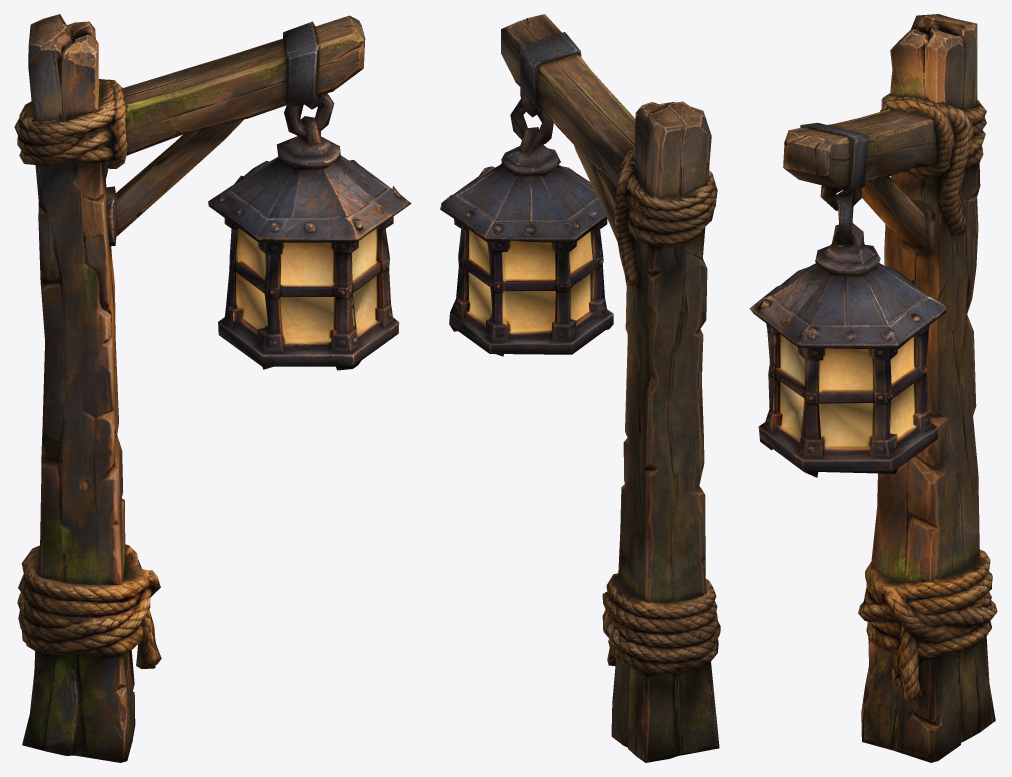
The model's file is lantern-post-v2-lod.glb.
The picture shows the model from 3 angles, left to right: view 1: azimuth 30°, elevation 25°; view 2: azimuth 150°, elevation 25°; view 3: azimuth 270°, elevation 25°; orthographic projection. The views are drawn at different scales.
Visible parts, largest first — view 1: tripo_node_ab763b4f-d258-47ee-bccc-f83e04b6fea0; view 2: tripo_node_ab763b4f-d258-47ee-bccc-f83e04b6fea0; view 3: tripo_node_ab763b4f-d258-47ee-bccc-f83e04b6fea0.
Boxes of the visible parts, bbox=[...] form: tripo_node_ab763b4f-d258-47ee-bccc-f83e04b6fea0: bbox=[14, 14, 411, 762]; tripo_node_ab763b4f-d258-47ee-bccc-f83e04b6fea0: bbox=[440, 14, 720, 762]; tripo_node_ab763b4f-d258-47ee-bccc-f83e04b6fea0: bbox=[749, 14, 997, 762].
Size of the model in its own units: 0.4655 by 0.9775 by 0.3092.
1 material, 1 textured.
